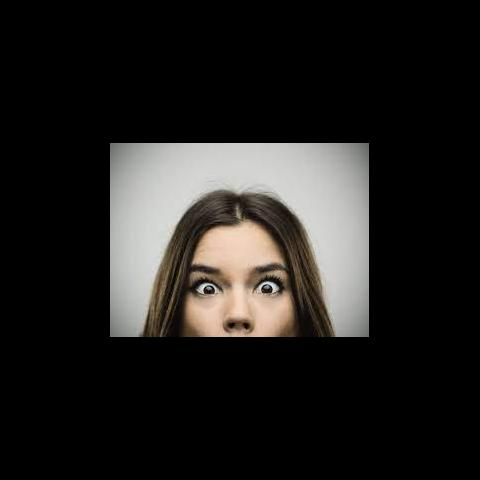opened: (183, 260, 287, 302)
